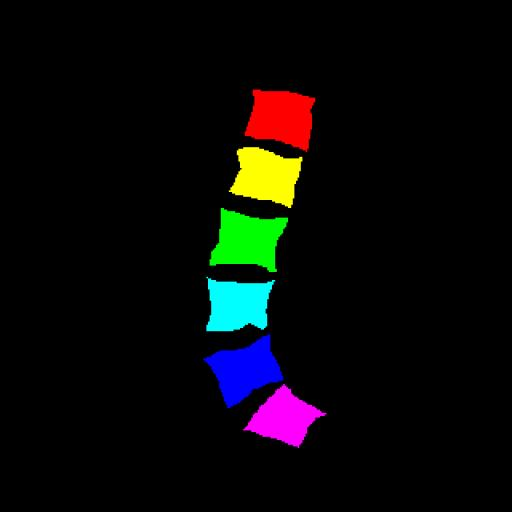L1: (245, 90, 315, 150)
L2: (230, 147, 302, 208)
L3: (210, 208, 288, 272)
L4: (206, 280, 274, 330)
L5: (204, 335, 283, 406)
S1: (244, 385, 326, 446)
